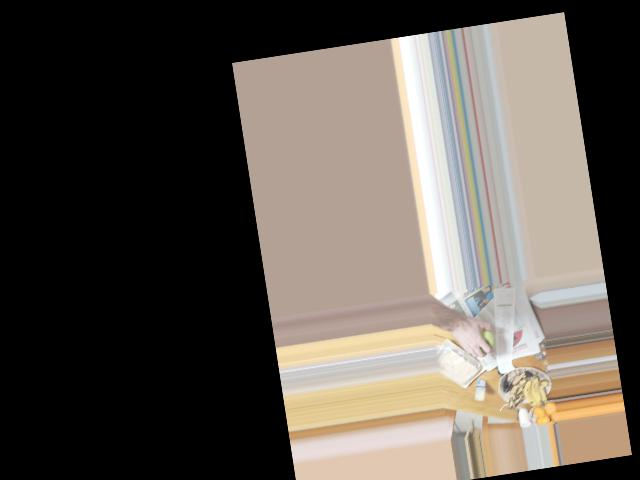apple: (467, 324, 496, 355)
